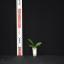leaf: (28, 39, 35, 48), (35, 42, 42, 48), (29, 45, 35, 48), (35, 45, 40, 48)
